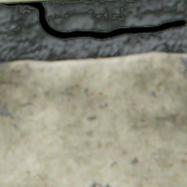brick: (0, 52, 186, 186), (0, 0, 24, 1)
crack: (0, 0, 185, 40)
